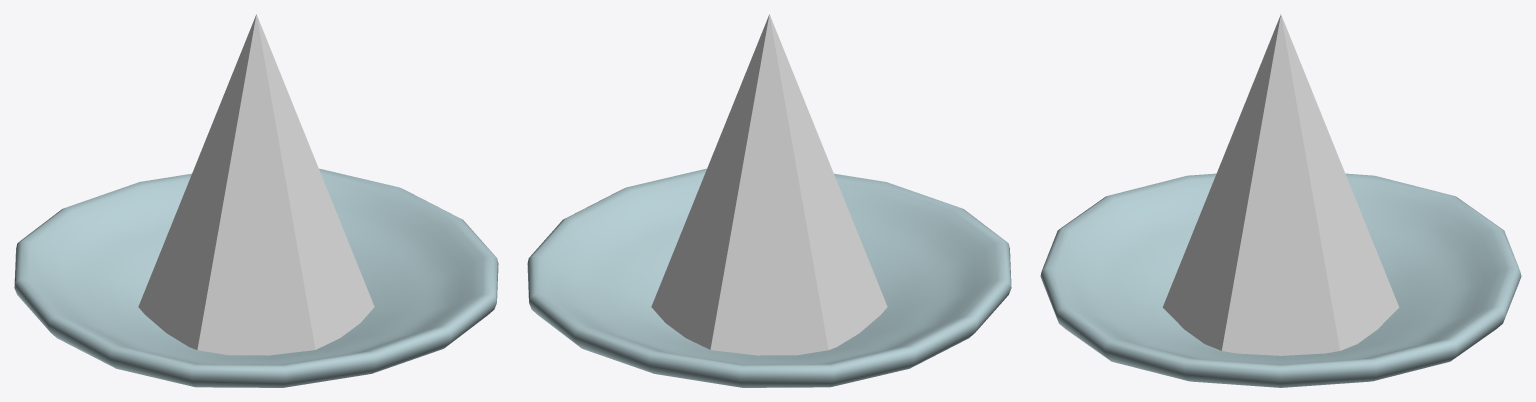
Rendered from morisioblend.fbx.
3 renders of one model, left to right at view 1: azimuth 30°, elevation 25°; view 2: azimuth 150°, elevation 25°; view 3: azimuth 270°, elevation 25°, orthographic.
Parts seen in each view (by area): view 1: Cube, Cone; view 2: Cube, Cone; view 3: Cube, Cone.
Part boxes in pixels (bbox=[...]): Cube: bbox=[14, 168, 498, 387]; Cone: bbox=[138, 14, 374, 355]; Cube: bbox=[527, 168, 1011, 387]; Cone: bbox=[651, 14, 887, 355]; Cube: bbox=[1040, 173, 1521, 387]; Cone: bbox=[1162, 14, 1399, 355].
Size of the model in its own units: 228 by 174 by 228.
